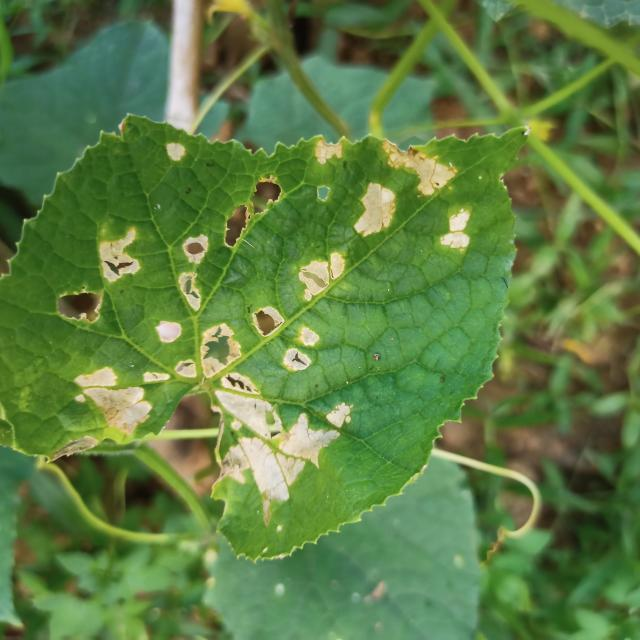disease_cucumber: (56, 221, 354, 526), (218, 136, 513, 308), (157, 137, 190, 172)
